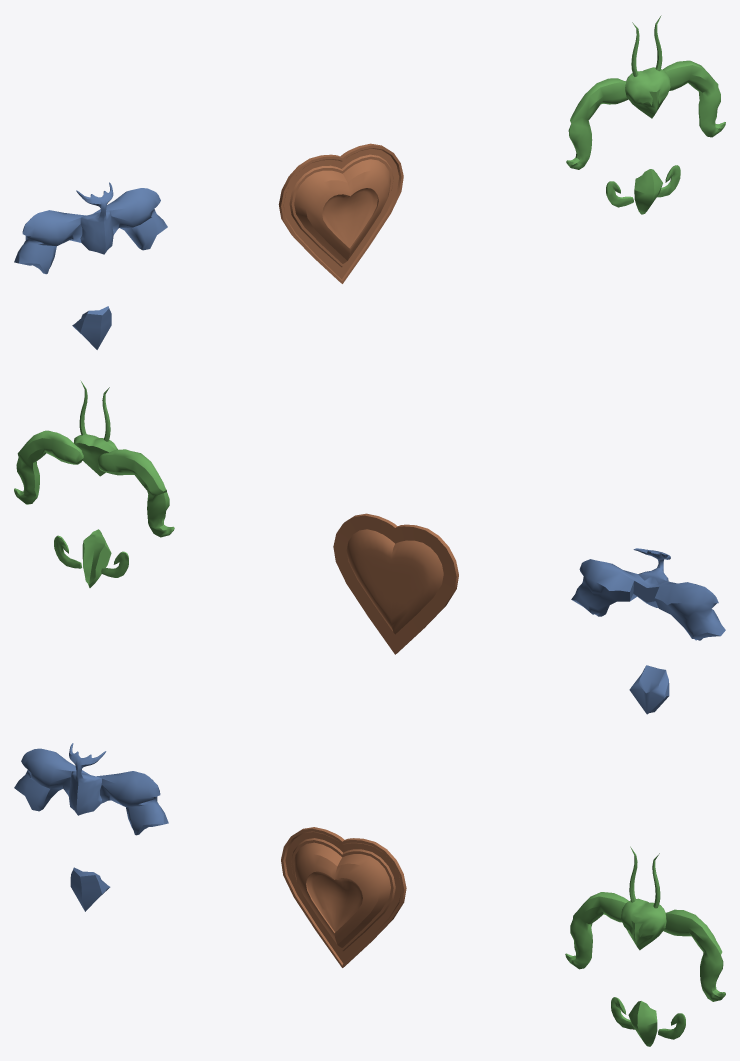
Rendered from bar_low.fbx.
3 renders of one model, top to bottom at view 1: azimuth 30°, elevation 25°; view 2: azimuth 150°, elevation 25°; view 3: azimuth 330°, elevation 25°, orthographic.
Parts seen in each view (by area): view 1: heart_low, liz_low, horn_low; view 2: heart_low, liz_low, horn_low; view 3: heart_low, liz_low, horn_low.
Part boxes in pixels (bbox=[...]): heart_low: bbox=[278, 143, 403, 283]; liz_low: bbox=[566, 15, 725, 214]; horn_low: bbox=[14, 182, 167, 349]; heart_low: bbox=[333, 513, 458, 654]; liz_low: bbox=[14, 380, 174, 587]; horn_low: bbox=[571, 548, 725, 714]; heart_low: bbox=[281, 827, 406, 967]; liz_low: bbox=[565, 846, 725, 1046]; horn_low: bbox=[14, 743, 168, 911].
Bounding box in the file's own units: 9.43 × 2.56 × 0.5747.
